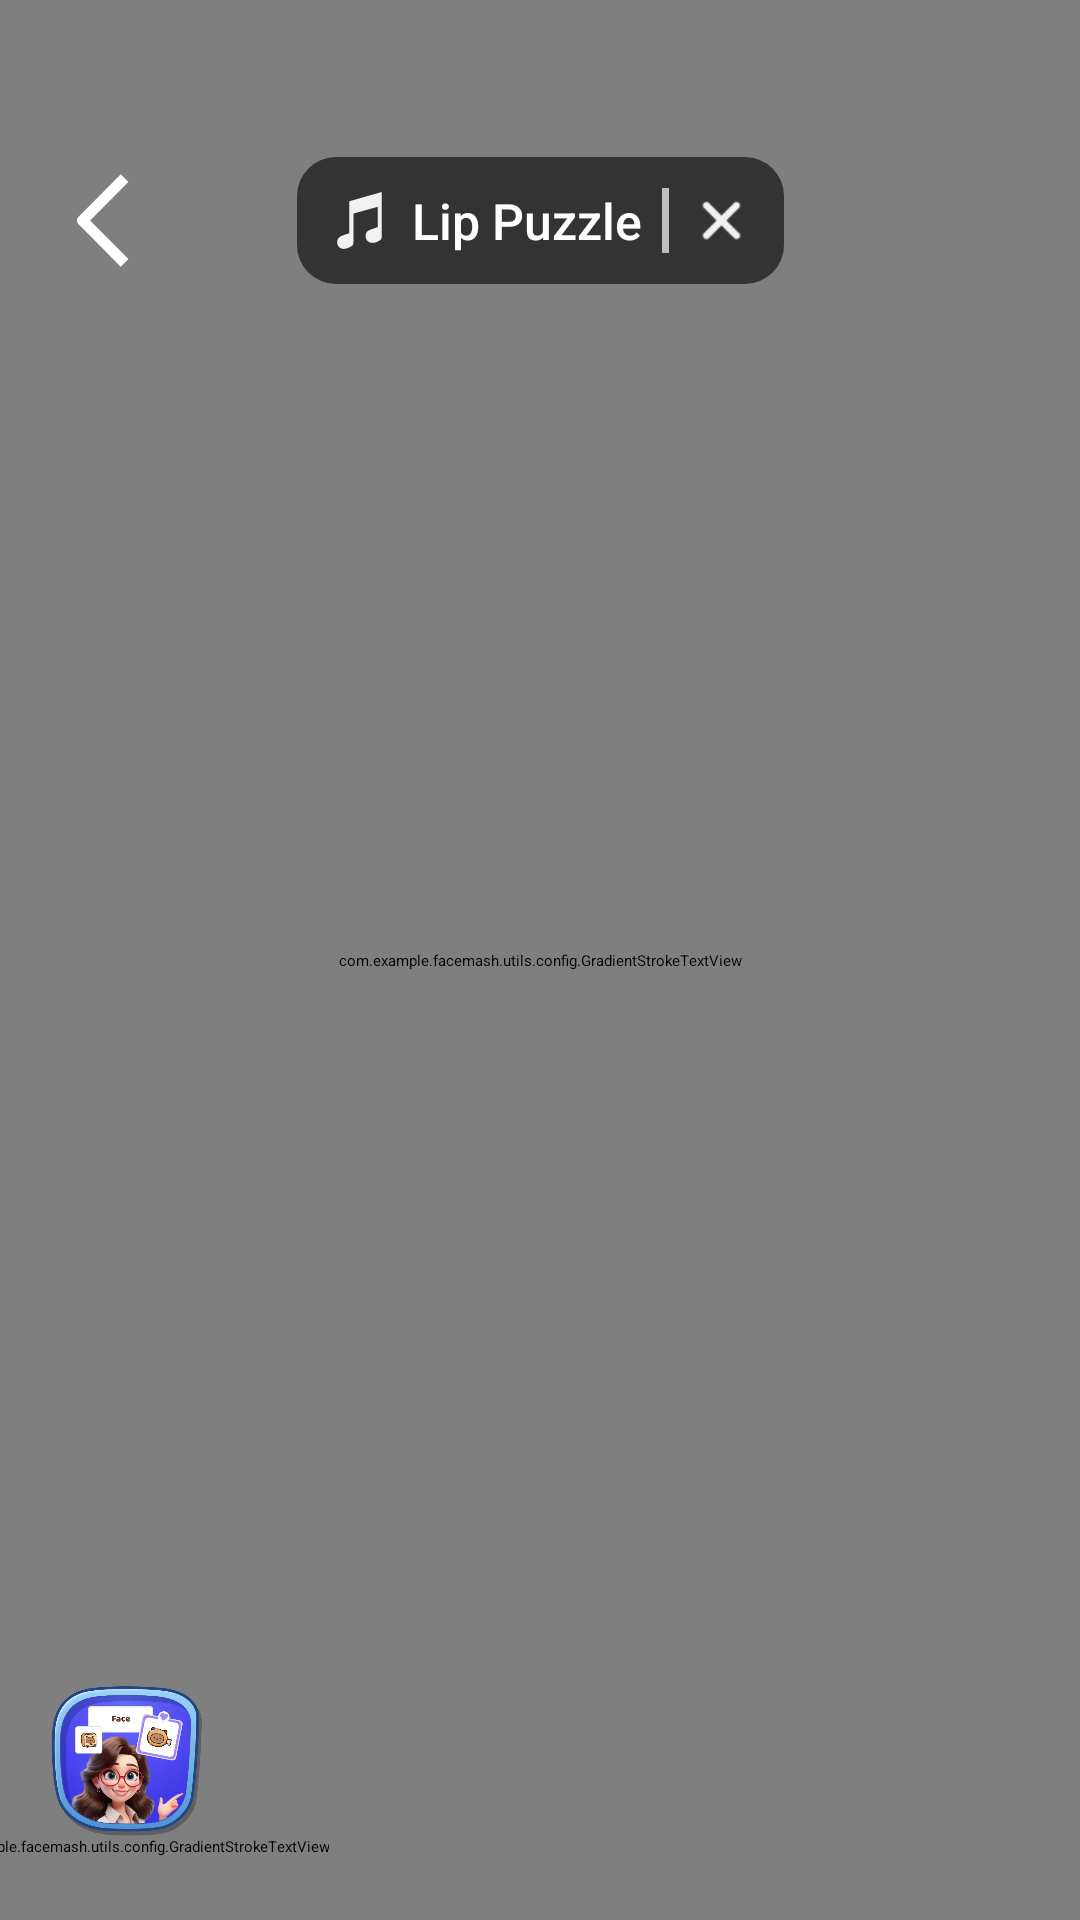

Icons on this 1080px x 1920px Android screen, each with its box as {"x1": x1, "y1": y1, "x2": x2, "y2": y2}:
back music: {"x1": 77, "y1": 174, "x2": 128, "y2": 267}
exit: {"x1": 702, "y1": 201, "x2": 741, "y2": 240}
music: {"x1": 337, "y1": 192, "x2": 382, "y2": 249}
